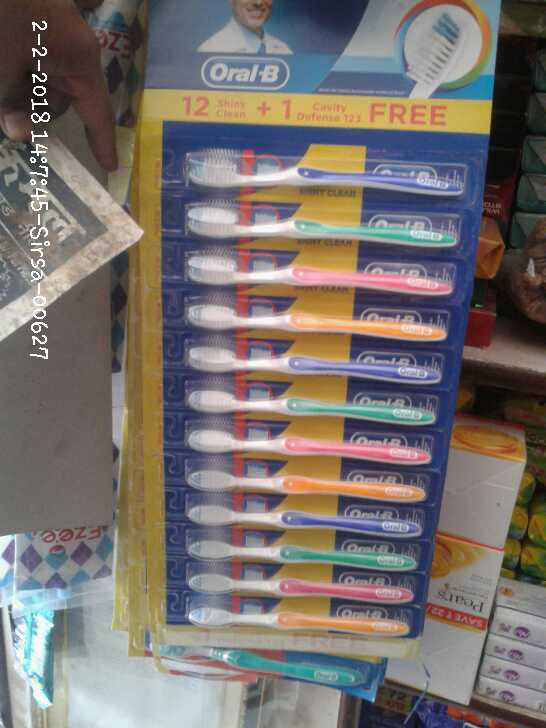oralb: (178, 186, 469, 245), (182, 144, 475, 201), (181, 287, 450, 342), (182, 373, 450, 425), (179, 248, 471, 295), (168, 339, 472, 384), (169, 424, 430, 467), (183, 497, 432, 540), (176, 566, 412, 605), (193, 536, 414, 575), (182, 464, 419, 500), (184, 602, 407, 638)
